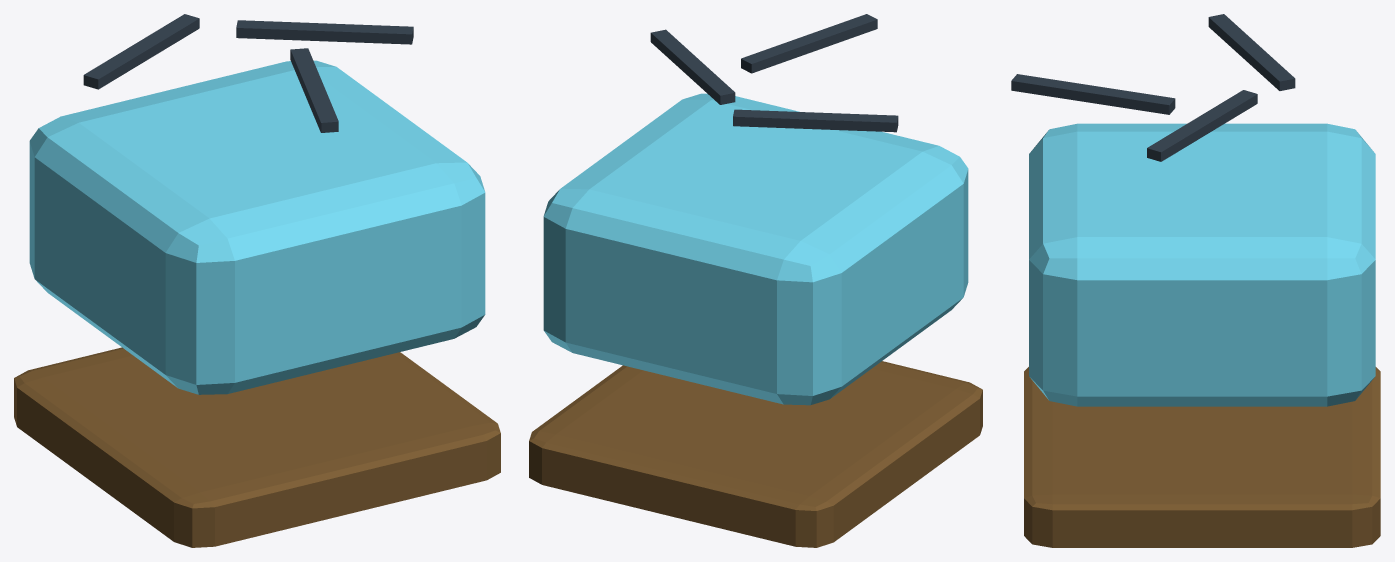
File: Grease_Frozen.fbx
3 views of the same model, side by side, from view 1: azimuth 30°, elevation 25°; view 2: azimuth 150°, elevation 25°; view 3: azimuth 270°, elevation 25° (orthographic). The views are drawn at different scales.
Visible parts, largest first — view 1: Frozen_Shell, Grease_Oil_Base, Crack_2, Crack_1, Crack_3; view 2: Frozen_Shell, Grease_Oil_Base, Crack_1, Crack_3, Crack_2; view 3: Frozen_Shell, Grease_Oil_Base, Crack_3, Crack_2, Crack_1.
Part boxes in pixels (x1,y1,x2,y2): Frozen_Shell: (29, 60, 485, 394); Grease_Oil_Base: (14, 347, 500, 547); Crack_2: (236, 20, 413, 44); Crack_1: (83, 14, 199, 89); Crack_3: (290, 48, 338, 132); Frozen_Shell: (543, 93, 968, 405); Grease_Oil_Base: (529, 361, 982, 547); Crack_1: (733, 109, 898, 132); Crack_3: (741, 14, 877, 73); Crack_2: (650, 29, 735, 104); Frozen_Shell: (1029, 123, 1375, 406); Grease_Oil_Base: (1024, 367, 1380, 547); Crack_3: (1011, 74, 1175, 114); Crack_2: (1147, 90, 1257, 161); Crack_1: (1208, 14, 1295, 90).
Bounding box in the file's own units: 0.7213 × 0.861 × 0.7456.
